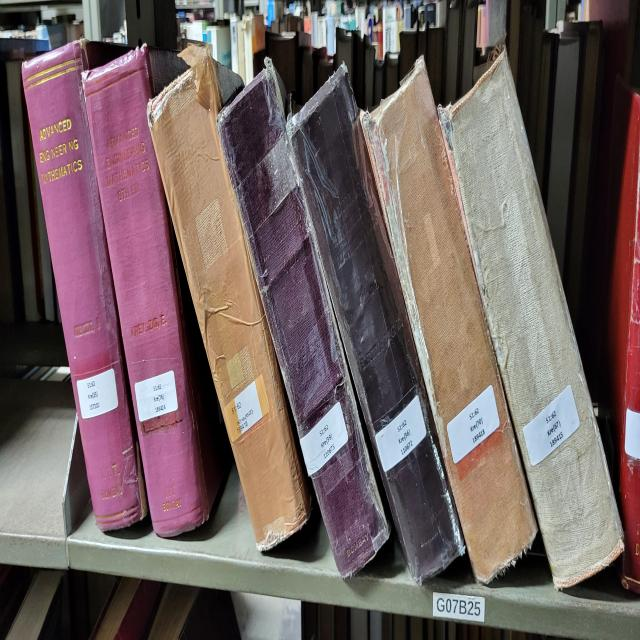Book: (439, 51, 622, 587), (286, 65, 464, 584), (361, 57, 536, 582), (218, 60, 389, 576), (148, 51, 310, 549), (82, 43, 228, 536), (22, 41, 148, 530)
Label: (522, 384, 580, 465), (448, 384, 500, 463), (375, 395, 426, 471), (300, 403, 348, 476), (76, 368, 119, 419), (135, 371, 178, 422), (235, 381, 262, 433)
